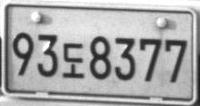3: (113, 36, 136, 81), (37, 33, 59, 77)
7: (138, 37, 162, 82), (164, 39, 188, 83)
8: (88, 35, 112, 80)
9: (11, 31, 34, 76)
도: (62, 42, 85, 78)
